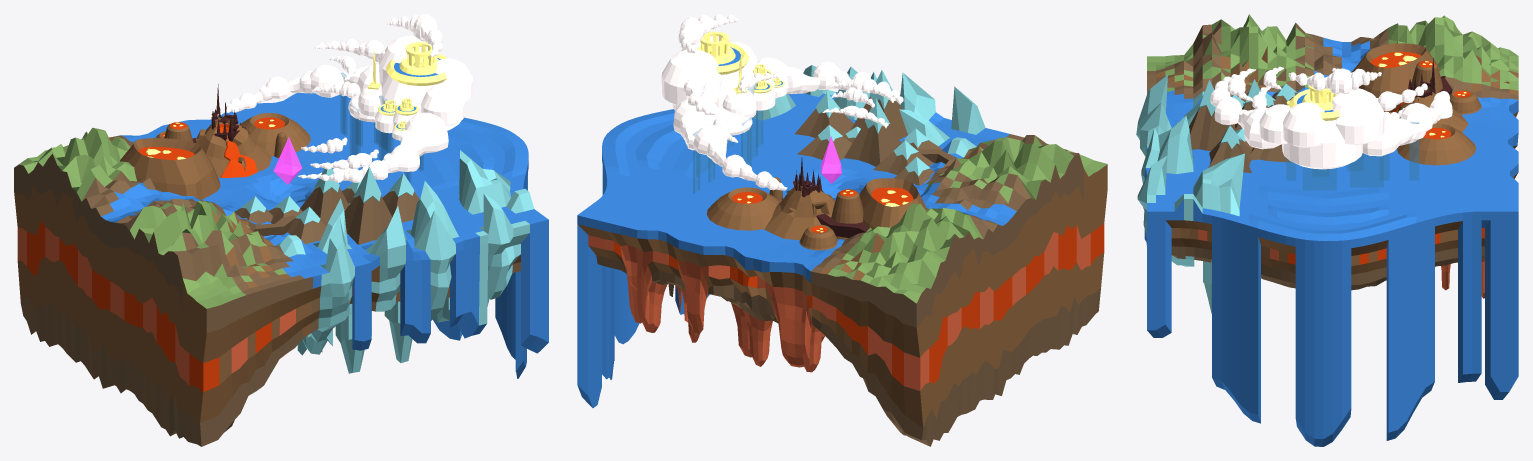
The picture shows the model from 3 angles, left to right: view 1: azimuth 30°, elevation 25°; view 2: azimuth 150°, elevation 25°; view 3: azimuth 270°, elevation 25°; orthographic projection. The views are drawn at different scales.
Parts seen in each view (by area): view 1: pPlane1.001, 000000000_cloud_0, 0lava, 000_Ground_0, 000000000_gold_0, 000_Ice_0, 0_rain_0, 0j, 000j; view 2: pPlane1.001, 000000000_cloud_0, 0lava, 000_Ground_0, 000_Ice_0, 000000000_gold_0, 0_rain_0, 000j, 0j; view 3: pPlane1.001, 000000000_cloud_0, 0lava, 000_Ground_0, 0_rain_0, 000_Ice_0, 000000000_gold_0, 000j.
Boxes of the visible parts, left/top/right/bottom form: pPlane1.001: left=14, top=93, right=548, bottom=446; 000000000_cloud_0: left=226, top=14, right=473, bottom=182; 0lava: left=120, top=113, right=310, bottom=200; 000_Ground_0: left=234, top=186, right=419, bottom=244; 000000000_gold_0: left=367, top=42, right=447, bottom=130; 000_Ice_0: left=241, top=161, right=414, bottom=224; 0_rain_0: left=340, top=72, right=423, bottom=182; 0j: left=273, top=137, right=302, bottom=184; 000j: left=192, top=84, right=249, bottom=142; pPlane1.001: left=577, top=65, right=1107, bottom=446; 000000000_cloud_0: left=661, top=14, right=903, bottom=190; 0lava: left=707, top=177, right=927, bottom=250; 000_Ground_0: left=795, top=96, right=956, bottom=185; 000_Ice_0: left=815, top=70, right=930, bottom=176; 000000000_gold_0: left=697, top=31, right=784, bottom=94; 0_rain_0: left=693, top=83, right=763, bottom=193; 000j: left=781, top=157, right=867, bottom=237; 0j: left=821, top=136, right=841, bottom=183; pPlane1.001: left=1136, top=14, right=1518, bottom=446; 000000000_cloud_0: left=1210, top=66, right=1452, bottom=169; 0lava: left=1351, top=43, right=1481, bottom=165; 000_Ground_0: left=1189, top=84, right=1297, bottom=172; 0_rain_0: left=1286, top=122, right=1419, bottom=190; 000_Ice_0: left=1197, top=79, right=1297, bottom=148; 000000000_gold_0: left=1286, top=68, right=1342, bottom=120; 000j: left=1408, top=57, right=1452, bottom=103.
Size of the model in its own units: 2089 by 1763 by 1773.
